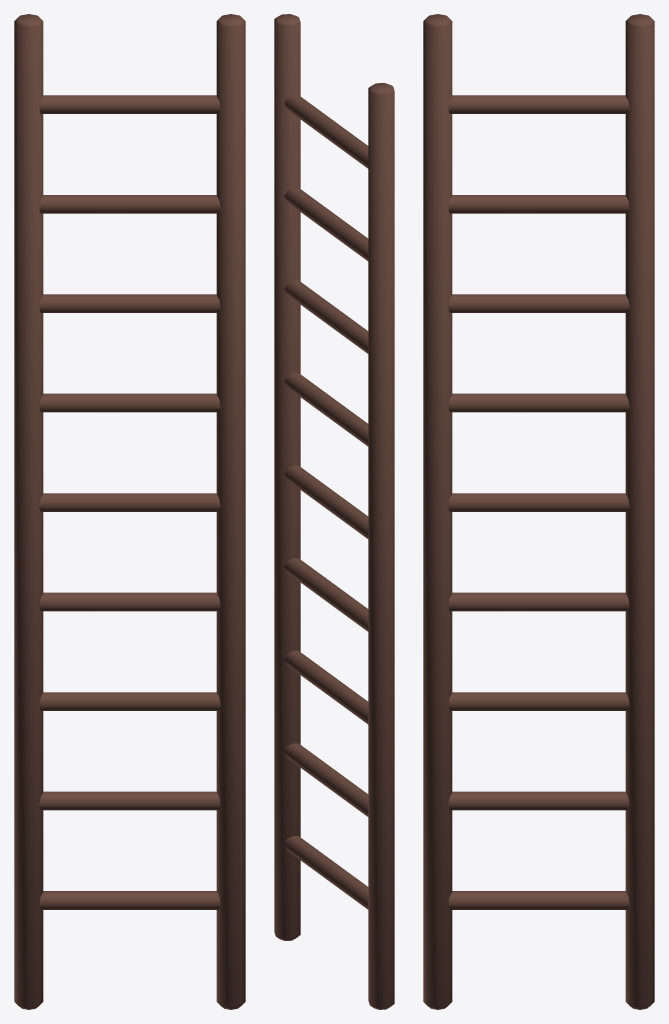
The model's file is WoodenStairs.fbx.
The picture shows the model from 3 angles, left to right: view 1: azimuth 90°, elevation 25°; view 2: azimuth 210°, elevation 25°; view 3: azimuth 270°, elevation 25°; orthographic projection. The views are drawn at different scales.
Parts seen in each view (by area): view 1: Stairs; view 2: Stairs; view 3: Stairs.
Boxes of the visible parts, box(x1,y1,x2,y2) form: Stairs: box(14, 14, 245, 1009); Stairs: box(274, 14, 394, 1009); Stairs: box(423, 14, 654, 1009).
Bounding box in the file's own units: 0.0537 × 0.4277 × 2.01.
